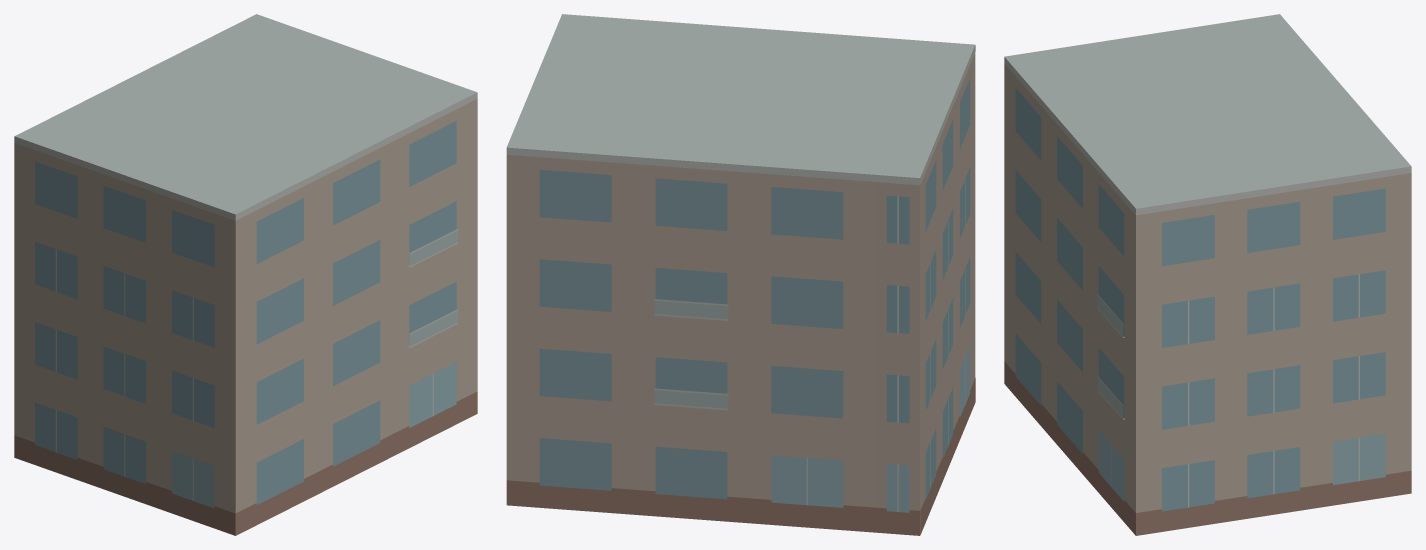
The model's file is residential-fa38f612-d339-4f2d-b97a-3e9487d7f881.glb.
3 renders of one model, left to right at view 1: azimuth 30°, elevation 25°; view 2: azimuth 150°, elevation 25°; view 3: azimuth 270°, elevation 25°, orthographic. The views are drawn at different scales.
Parts seen in each view (by area): view 1: residential-fa38f612-d339-4f2d-b97a-3e9487d7f881.tmp; view 2: residential-fa38f612-d339-4f2d-b97a-3e9487d7f881.tmp; view 3: residential-fa38f612-d339-4f2d-b97a-3e9487d7f881.tmp.
Part boxes in pixels (box(x1,y1,x2,y2)): residential-fa38f612-d339-4f2d-b97a-3e9487d7f881.tmp: box(14, 14, 477, 535); residential-fa38f612-d339-4f2d-b97a-3e9487d7f881.tmp: box(506, 14, 975, 535); residential-fa38f612-d339-4f2d-b97a-3e9487d7f881.tmp: box(1004, 14, 1411, 535).
Size of the model in its own units: 15.6 by 12.2 by 13.78.
